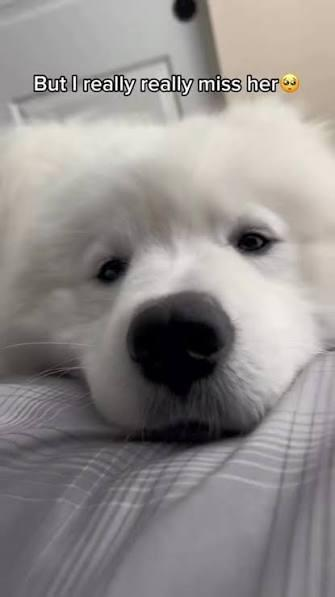puppy-dog: (0, 92, 335, 444)
